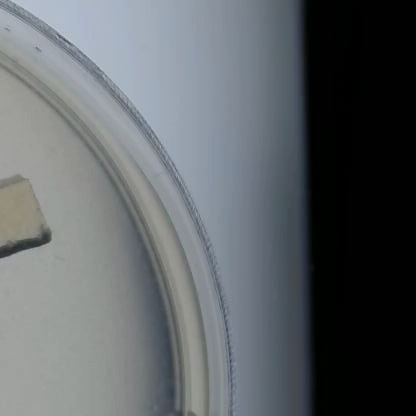worm: (51, 252, 70, 270)
